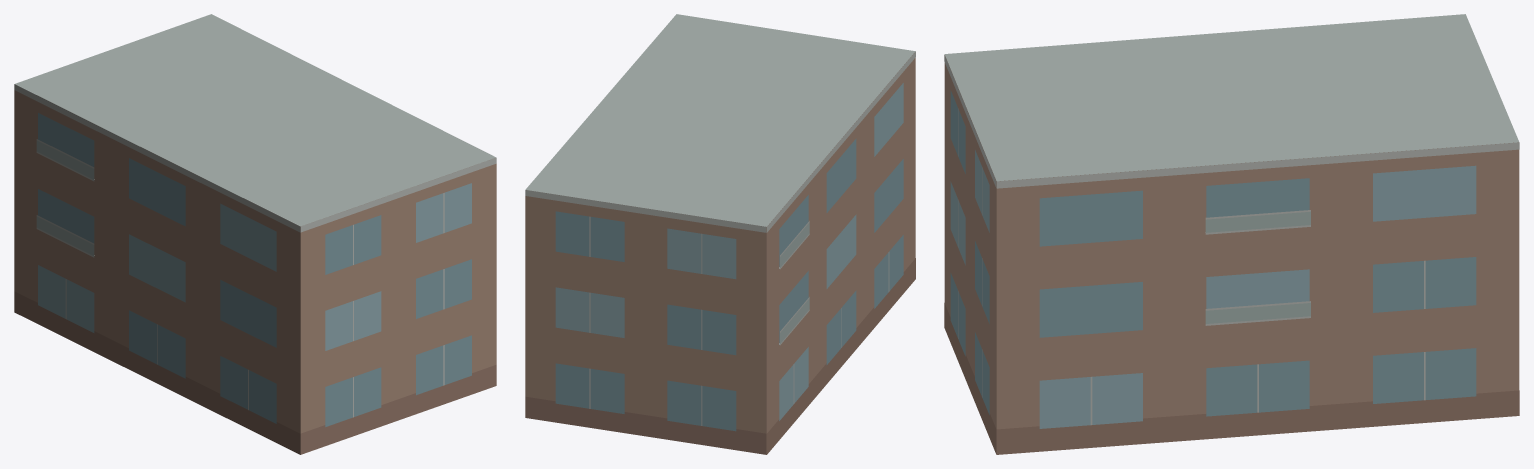
The model's file is survey-upis-32943388.glb.
The picture shows the model from 3 angles, left to right: view 1: azimuth 30°, elevation 25°; view 2: azimuth 150°, elevation 25°; view 3: azimuth 270°, elevation 25°; orthographic projection. The views are drawn at different scales.
Visible parts, largest first — view 1: survey-upis-32943388.tmp; view 2: survey-upis-32943388.tmp; view 3: survey-upis-32943388.tmp.
Boxes of the visible parts, x1=… form: survey-upis-32943388.tmp: x1=14, y1=14, x2=496, y2=454; survey-upis-32943388.tmp: x1=525, y1=14, x2=915, y2=454; survey-upis-32943388.tmp: x1=944, y1=14, x2=1519, y2=454.
Bounding box in the file's own units: 12.01 × 9.15 × 17.44.
